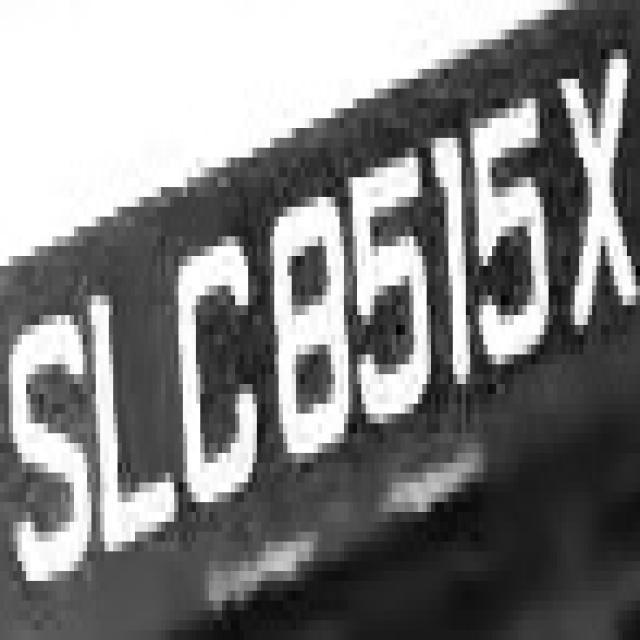1: (409, 118, 479, 433)
5: (457, 89, 553, 394), (344, 128, 422, 463)
8: (257, 158, 357, 472)
C: (166, 216, 266, 522)
L: (87, 256, 183, 571)
S: (9, 286, 91, 610)
X: (548, 19, 640, 344)
